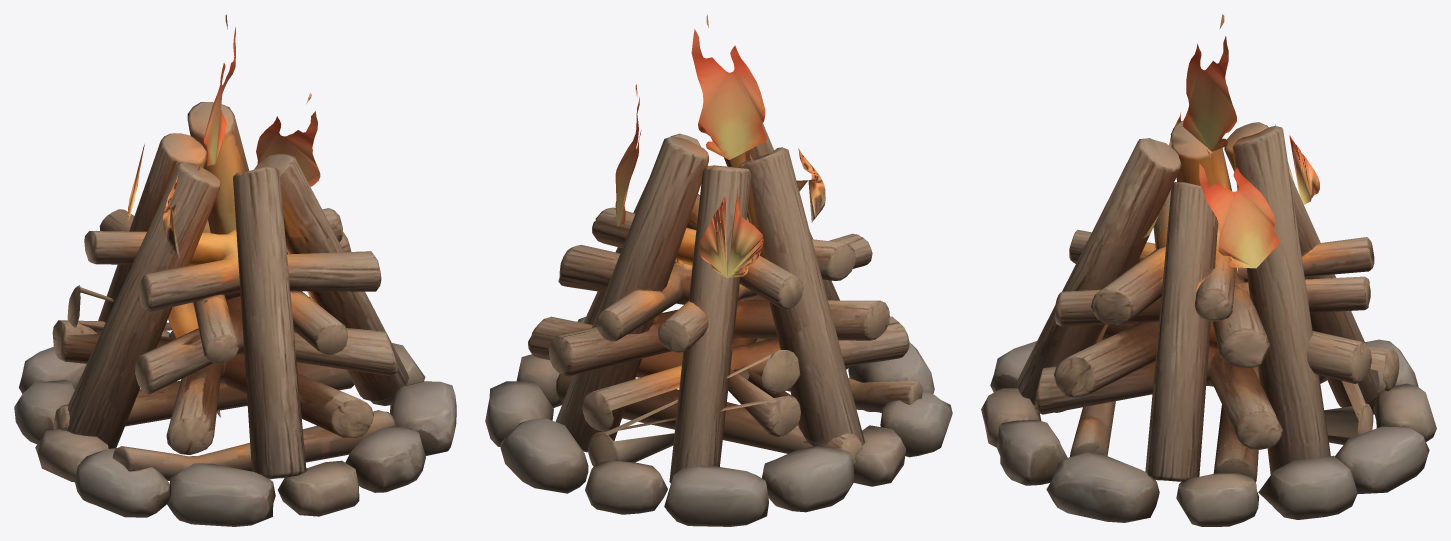
Rendered from fogueira.glb.
3 renders of one model, left to right at view 1: azimuth 30°, elevation 25°; view 2: azimuth 150°, elevation 25°; view 3: azimuth 270°, elevation 25°, orthographic. The views are drawn at different scales.
Visible parts, largest first — view 1: Fogueira de festa; view 2: Fogueira de festa; view 3: Fogueira de festa.
Part boxes in pixels (x1,y1,x2,y2): Fogueira de festa: (14, 14, 456, 526); Fogueira de festa: (485, 14, 952, 526); Fogueira de festa: (981, 14, 1436, 526).
Size of the model in its own units: 0.9434 by 0.998 by 0.9668.
1 material, 1 textured.
